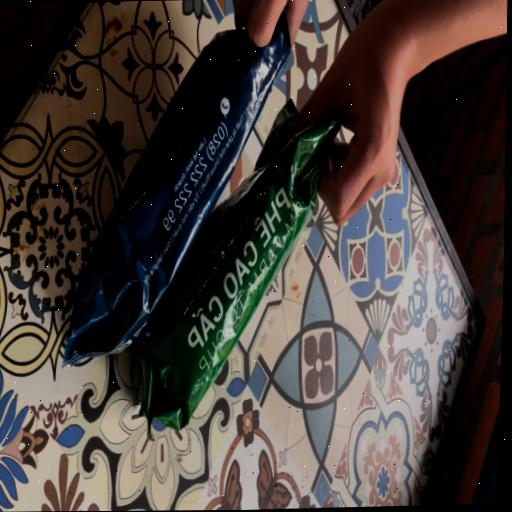cafe_hat: (63, 15, 290, 364)
cafe_xay: (138, 102, 340, 435)
